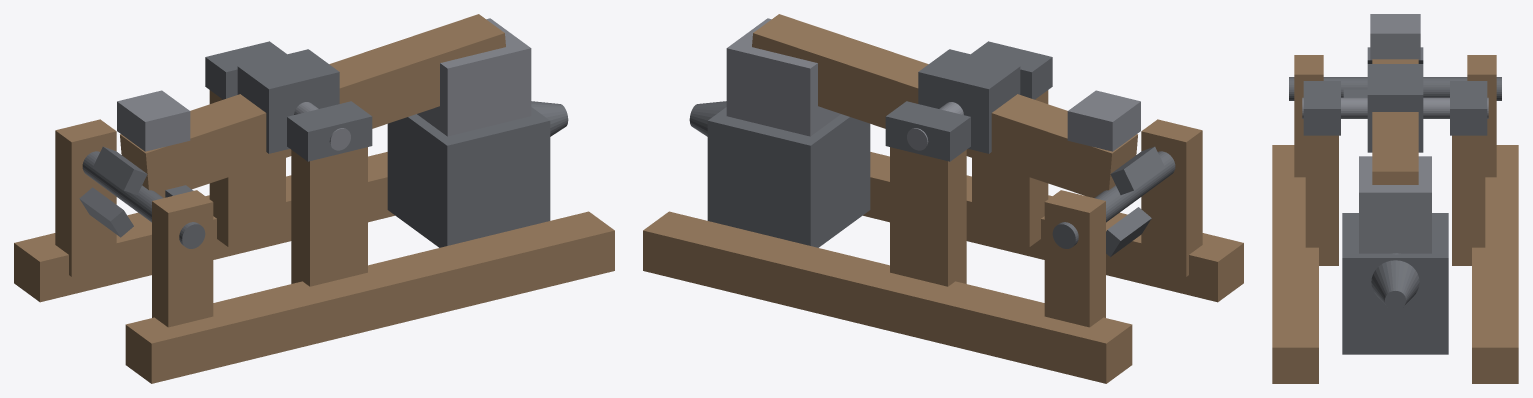
Rendered from industrial_trip_hammer.glb.
The picture shows the model from 3 angles, left to right: view 1: azimuth 30°, elevation 25°; view 2: azimuth 150°, elevation 25°; view 3: azimuth 270°, elevation 25°; orthographic projection. The views are drawn at different scales.
Visible parts, largest first — view 1: Cube, Cube.002, Cube.007, Cube.003, Cube.001, Cube.009, Cube.010, Cube.011, Cube.008, Cube.005, Cube.004, Cube.015 (+6 smaller); view 2: Cube.001, Cube.007, Cube.002, Cube.005, Cube, Cube.010, Cube.009, Cube.011, Cube.008, Cube.003, Cube.006, Cube.015 (+6 smaller); view 3: Cube.002, Cube, Cube.001, Cube.009, Cube.003, Cube.005, Cube.007, Cube.008, Cube.015, Cube.004, Cube.006, Cone (+5 smaller).
Part boxes in pixels (x1=…): Cube: x1=125, y1=211, x2=614, y2=383; Cube.002: x1=387, y1=107, x2=550, y2=247; Cube.007: x1=120, y1=14, x2=505, y2=197; Cube.003: x1=291, y1=147, x2=367, y2=286; Cube.001: x1=14, y1=152, x2=394, y2=302; Cube.009: x1=417, y1=18, x2=531, y2=136; Cube.010: x1=152, y1=190, x2=213, y2=327; Cube.011: x1=55, y1=119, x2=116, y2=276; Cube.008: x1=237, y1=49, x2=339, y2=153; Cube.005: x1=209, y1=90, x2=285, y2=246; Cube.004: x1=287, y1=101, x2=372, y2=161; Cube.015: x1=117, y1=90, x2=190, y2=151; Cube.001: x1=643, y1=211, x2=1132, y2=383; Cube.007: x1=752, y1=14, x2=1137, y2=197; Cube.002: x1=707, y1=107, x2=870, y2=247; Cube.005: x1=890, y1=147, x2=966, y2=286; Cube: x1=863, y1=152, x2=1243, y2=302; Cube.010: x1=1141, y1=119, x2=1202, y2=276; Cube.009: x1=726, y1=18, x2=840, y2=136; Cube.011: x1=1044, y1=190, x2=1105, y2=327; Cube.008: x1=918, y1=49, x2=1020, y2=153; Cube.003: x1=972, y1=90, x2=1048, y2=246; Cube.006: x1=885, y1=101, x2=970, y2=161; Cube.015: x1=1067, y1=90, x2=1140, y2=151; Cube.002: x1=1342, y1=213, x2=1448, y2=354; Cube: x1=1272, y1=145, x2=1318, y2=383; Cube.001: x1=1472, y1=145, x2=1518, y2=383; Cube.009: x1=1359, y1=156, x2=1431, y2=253; Cube.003: x1=1305, y1=135, x2=1338, y2=265; Cube.005: x1=1452, y1=135, x2=1485, y2=265; Cube.007: x1=1372, y1=59, x2=1418, y2=184; Cube.008: x1=1367, y1=64, x2=1423, y2=152; Cube.015: x1=1370, y1=14, x2=1420, y2=60; Cube.004: x1=1303, y1=81, x2=1340, y2=135; Cube.006: x1=1450, y1=81, x2=1487, y2=135; Cone: x1=1371, y1=253, x2=1419, y2=309.
Size of the model in its own units: 3.72 by 1.59 by 1.85.
